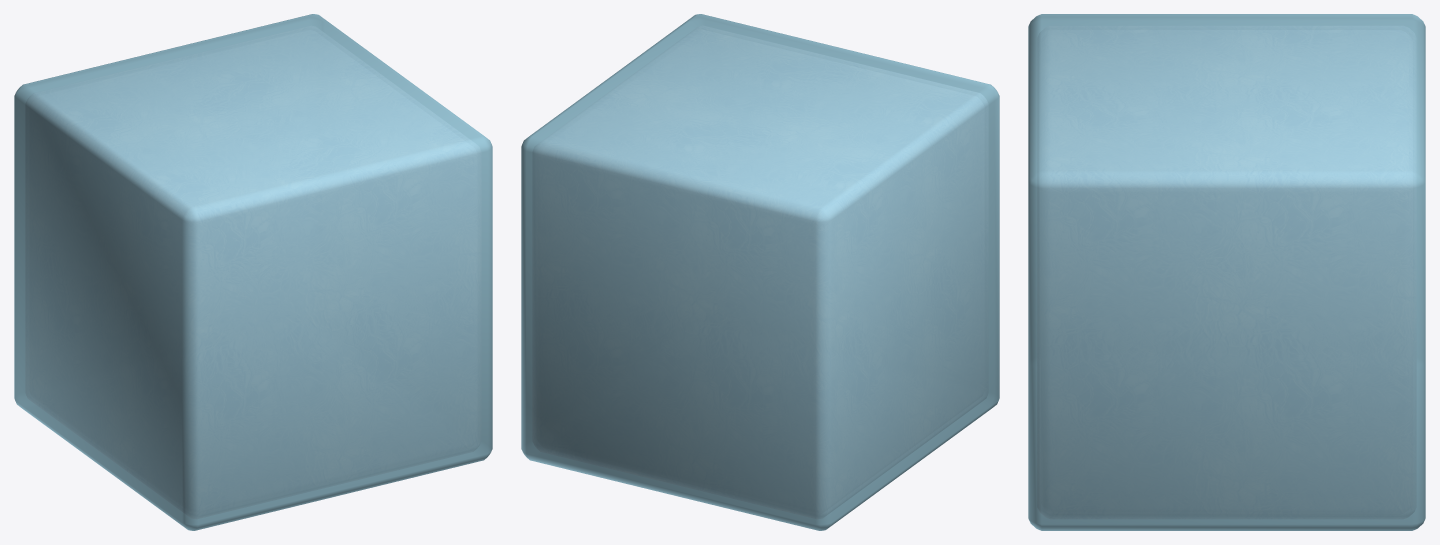
File: ice2.fbx
3 renders of one model, left to right at view 1: azimuth 30°, elevation 25°; view 2: azimuth 150°, elevation 25°; view 3: azimuth 270°, elevation 25°, orthographic. The views are drawn at different scales.
Visible parts, largest first — view 1: Cube, Cube.001; view 2: Cube, Cube.001; view 3: Cube, Cube.001.
Part boxes in pixels (bbox=[...]): Cube: bbox=[14, 14, 492, 530]; Cube.001: bbox=[26, 26, 480, 518]; Cube: bbox=[521, 14, 999, 530]; Cube.001: bbox=[533, 26, 987, 518]; Cube: bbox=[1028, 14, 1425, 530]; Cube.001: bbox=[1038, 26, 1415, 518].
Size of the model in its own units: 200 by 200 by 200.
